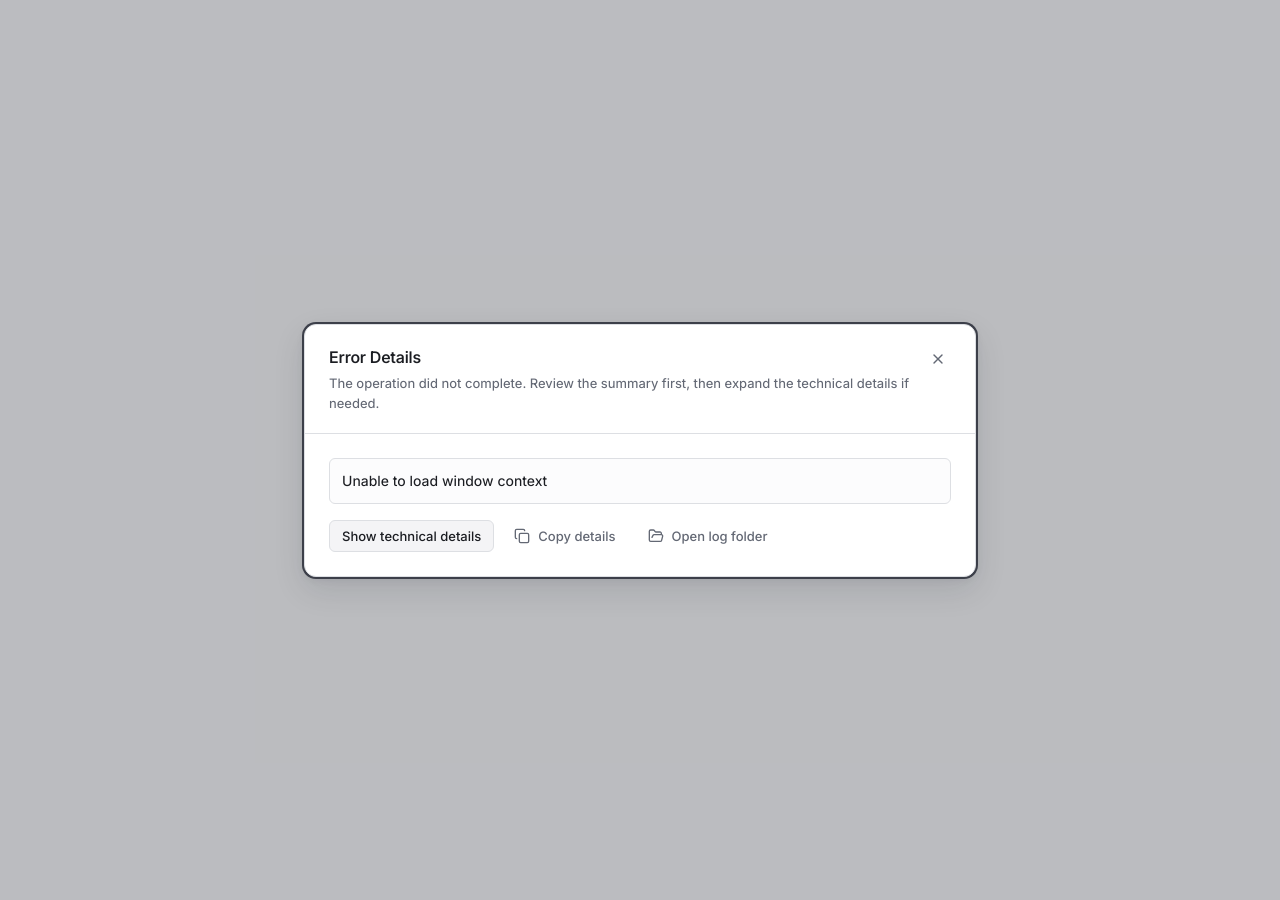
App › reports window context failures in the desktop runtime
The width and height of the screenshot is (1280, 900).
Expected: the dialog "Error Details" shows "Unable to load window context", x1=342 y1=472 x2=547 y2=488
What coordinates should you click on to do the following:
click the button "Show technical details"
I would click on:
 (412, 536)
Its box is x1=329 y1=520 x2=494 y2=552.
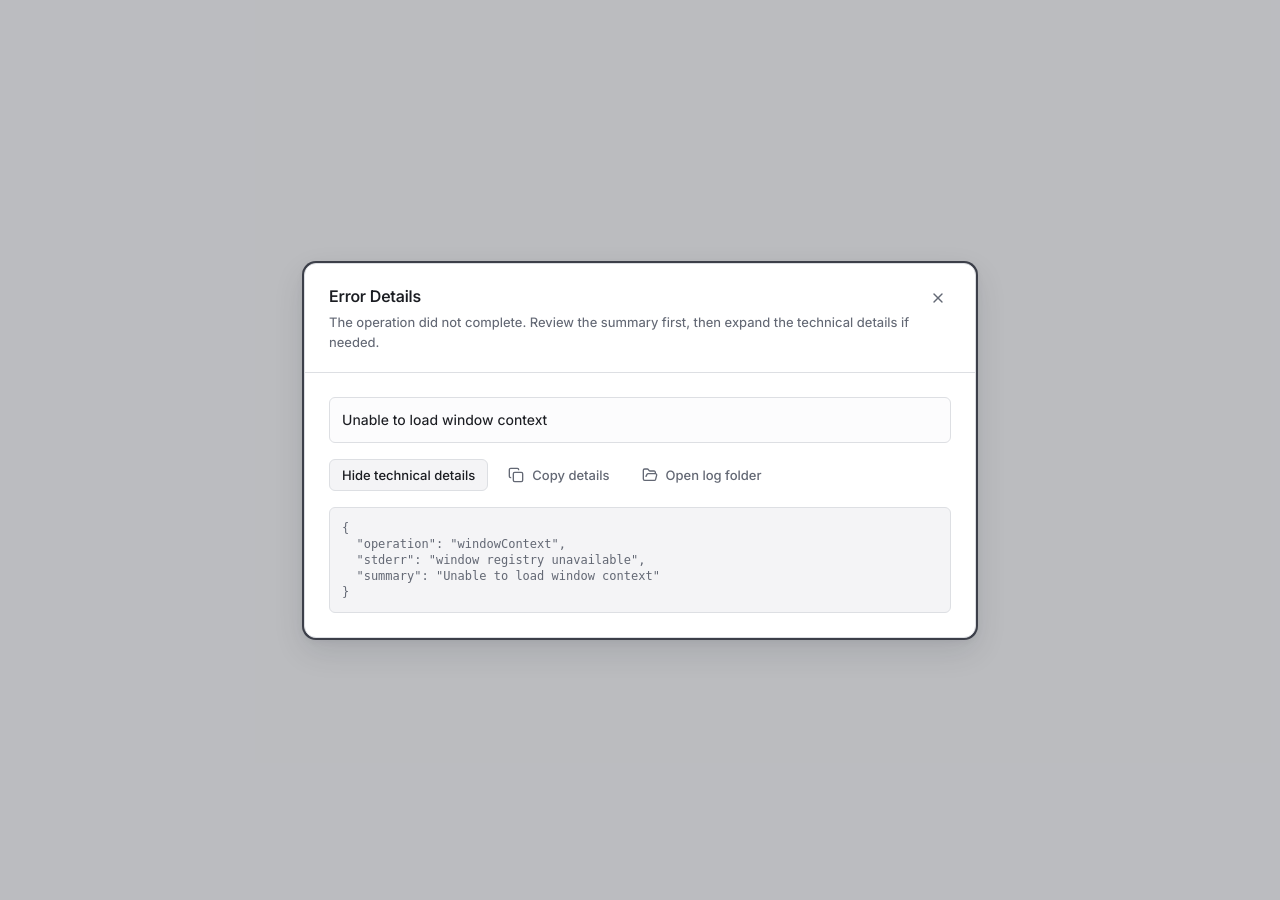
Expected: the dialog "Error Details" shows "window registry unavailable", x1=342 y1=520 x2=660 y2=598
